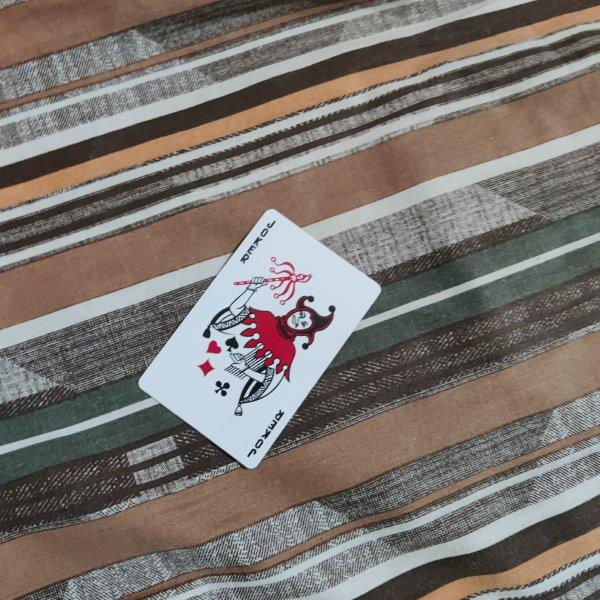Joker: (137, 209, 383, 469)
